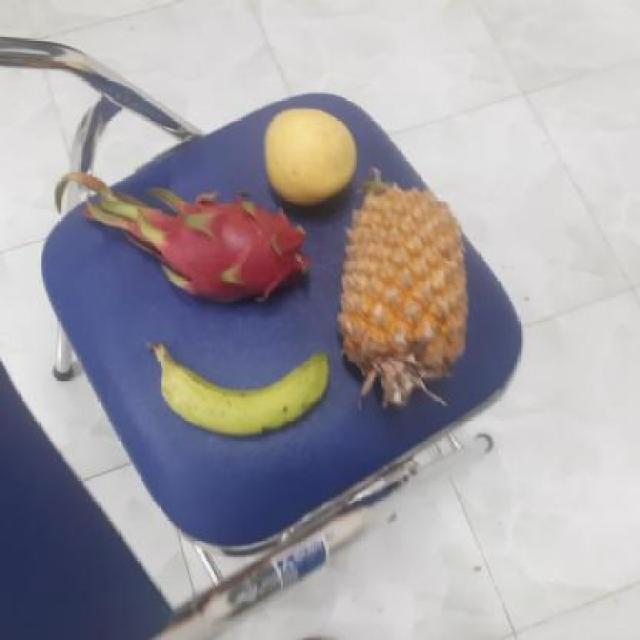banana: (148, 344, 328, 436)
dragon fruit: (135, 191, 309, 304)
pear: (258, 108, 361, 207)
pineapple: (334, 181, 471, 316)
